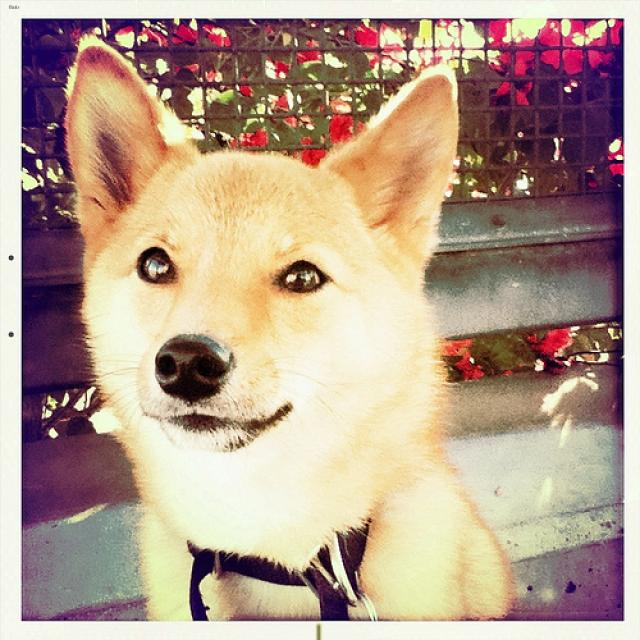dog-shiba_inu: (55, 27, 530, 635)
